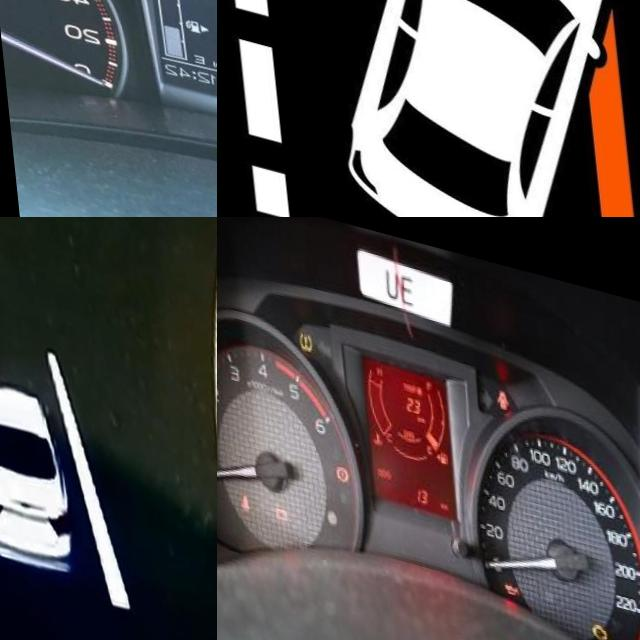Seat Belt: (231, 484, 245, 502)
